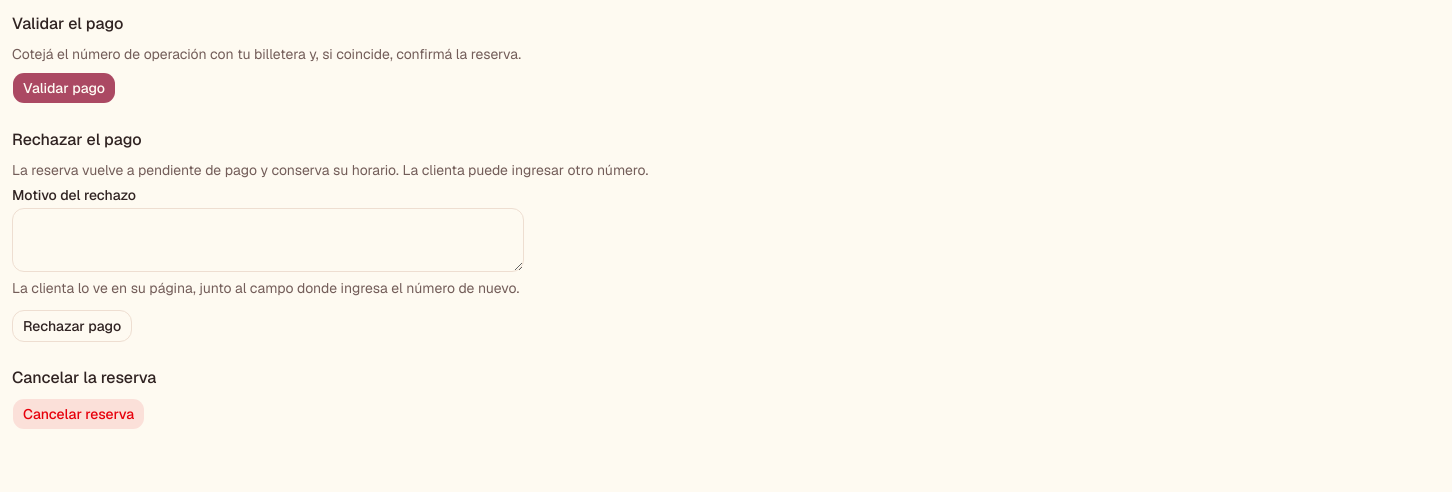
Test: validar › si la reserva cambió muestra el aviso con el estado actual
This screenshot has width=1452, height=492.
Click the button "Validar pago".
click(64, 88)  # box [12,72,116,104]
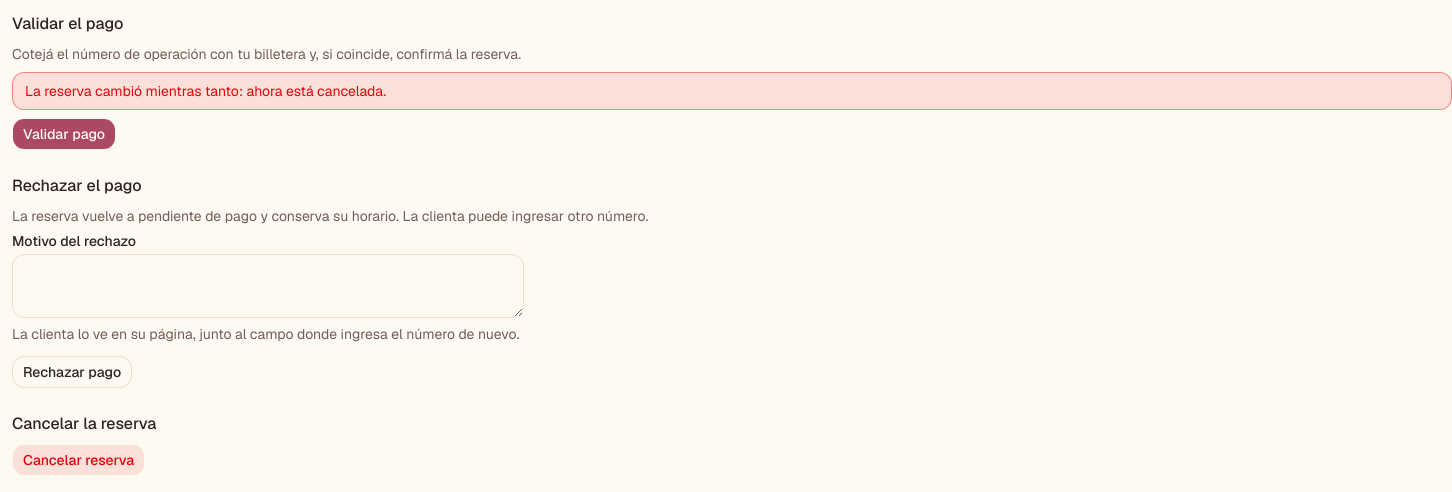
expect the message shows "ahora está cancelada": met, box [25,82,386,100]
